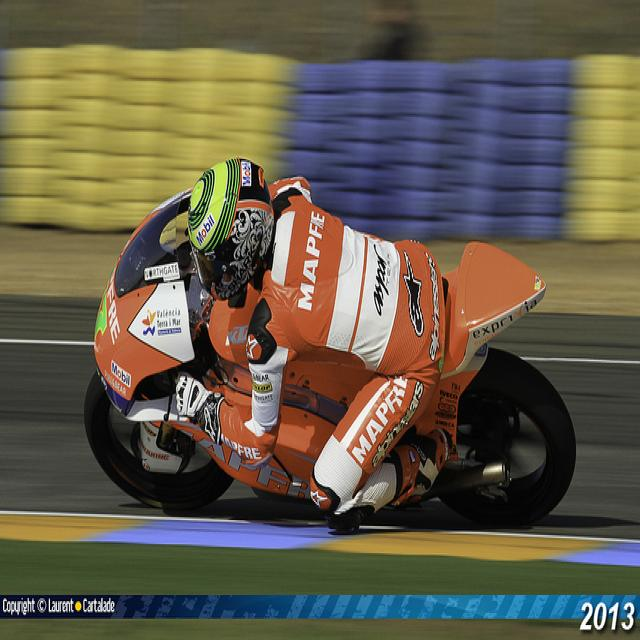motor: (82, 187, 580, 532)
